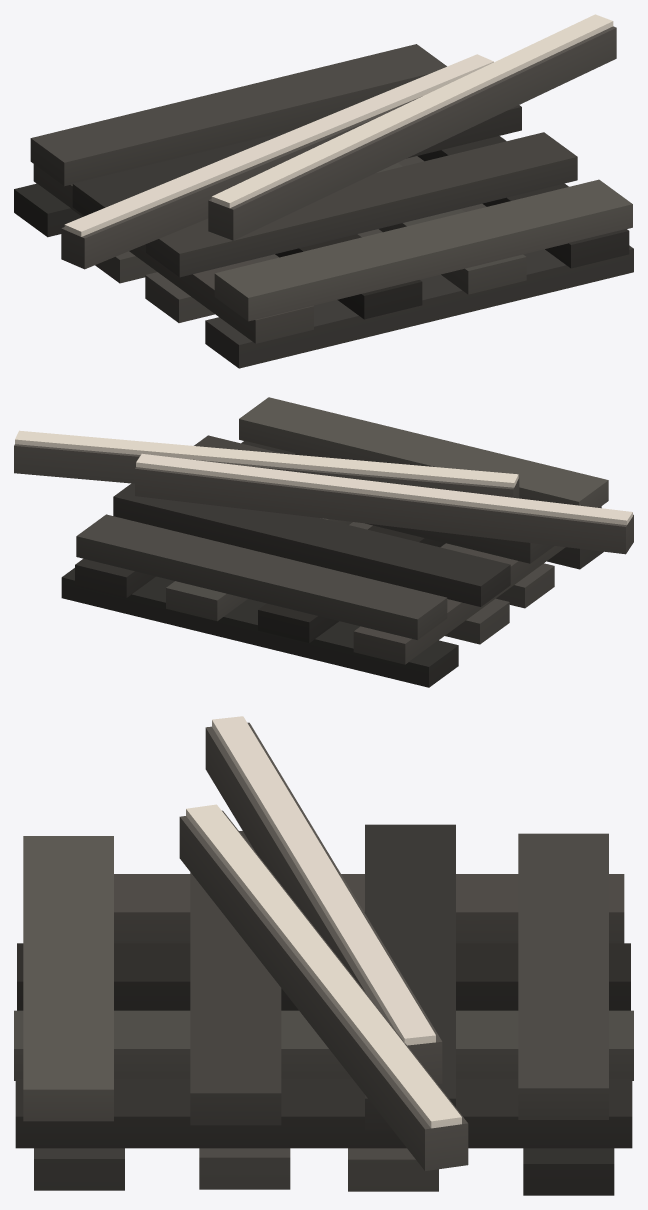
File: SM_VKI_Prop_Mine_SleeperStack.fbx
3 views of the same model, one above another, from view 1: azimuth 30°, elevation 25°; view 2: azimuth 150°, elevation 25°; view 3: azimuth 270°, elevation 25° (orthographic). The views are drawn at different scales.
Parts seen in each view (by area): view 1: SM_VKI_Prop_Mine_SleeperStack.001; view 2: SM_VKI_Prop_Mine_SleeperStack.001; view 3: SM_VKI_Prop_Mine_SleeperStack.001.
Part boxes in pixels (x1,y1,x2,y2): SM_VKI_Prop_Mine_SleeperStack.001: (14,14,633,368); SM_VKI_Prop_Mine_SleeperStack.001: (14,397,633,687); SM_VKI_Prop_Mine_SleeperStack.001: (14,716,633,1195).
Size of the model in its own units: 1.49 by 0.259 by 0.9545.
